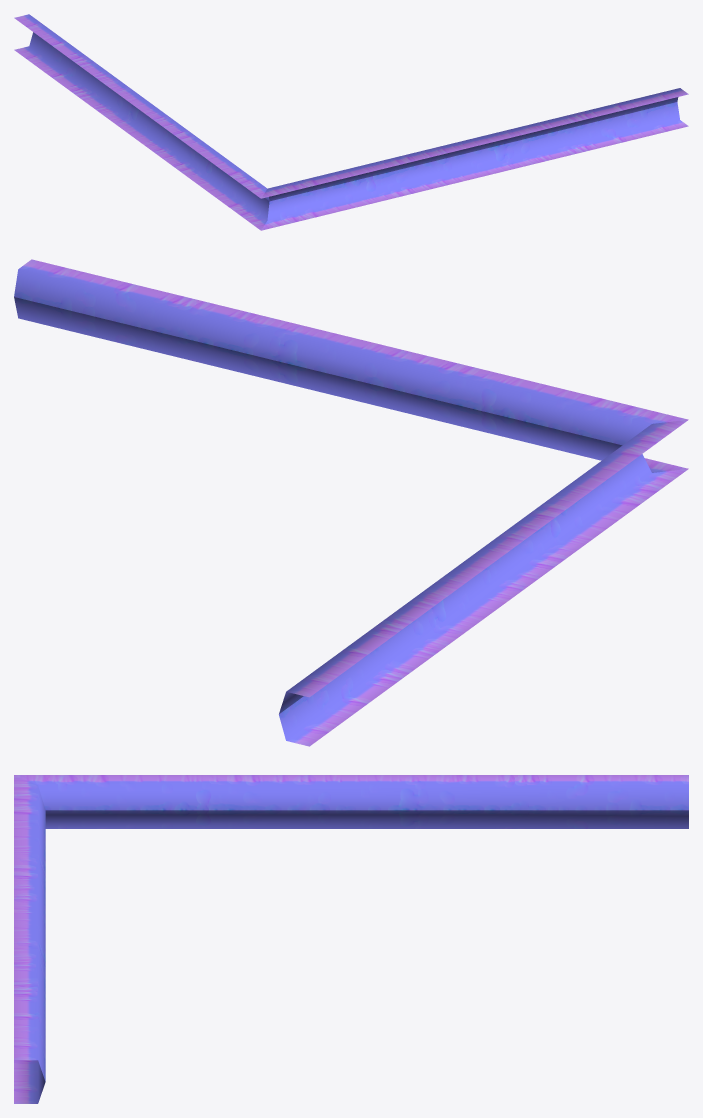
File: sm_wall_roof_edge_inner_corner_01.fbx
3 renders of one model, top to bottom at view 1: azimuth 30°, elevation 25°; view 2: azimuth 150°, elevation 25°; view 3: azimuth 270°, elevation 25°, orthographic. The views are drawn at different scales.
Visible parts, largest first — view 1: sm_wall_roof_edge_inner_corner_01; view 2: sm_wall_roof_edge_inner_corner_01; view 3: sm_wall_roof_edge_inner_corner_01.
Part boxes in pixels (x1,y1,x2,y2): sm_wall_roof_edge_inner_corner_01: (14, 14, 688, 230); sm_wall_roof_edge_inner_corner_01: (14, 259, 688, 746); sm_wall_roof_edge_inner_corner_01: (14, 775, 688, 1103).
Size of the model in its own units: 350 by 25 by 350.
Materials: 1 (1 with a texture image).
